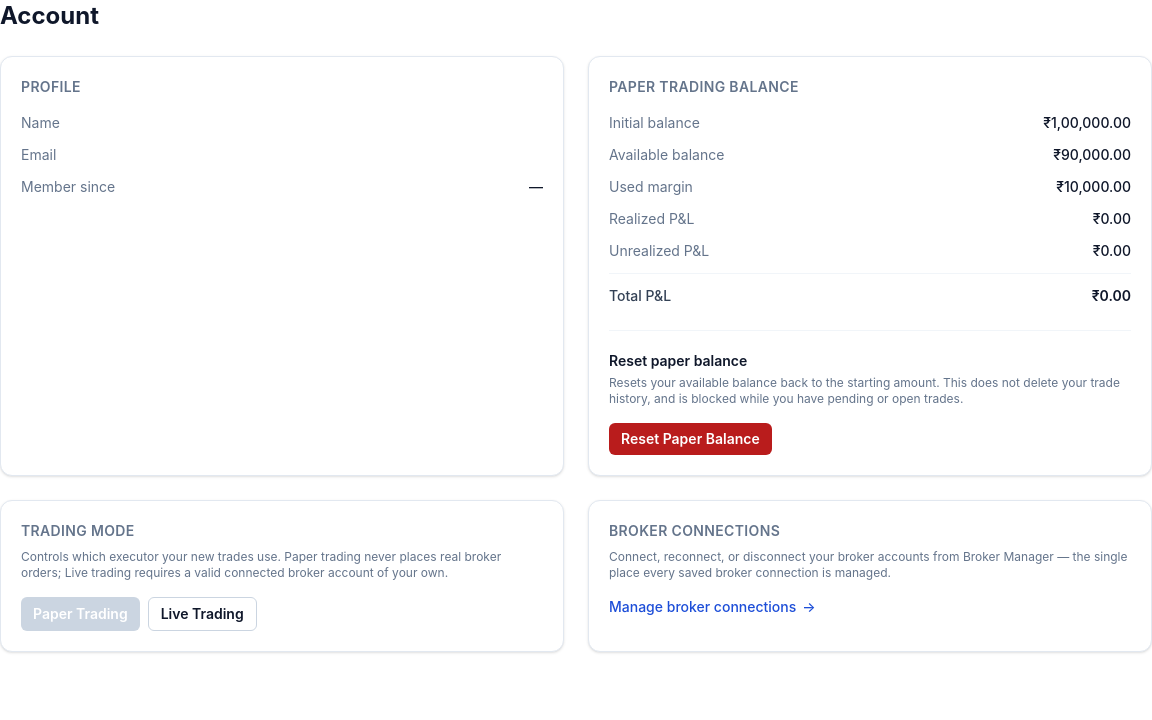
Test: Account page › Trading Mode selector › surfaces the backend safety rejection and leaves the mode unchanged (no silent fallback)
What coordinates should you click on to do the following:
click the button "Live Trading"
I would click on:
 (202, 614)
Its box is [148,597,257,631].
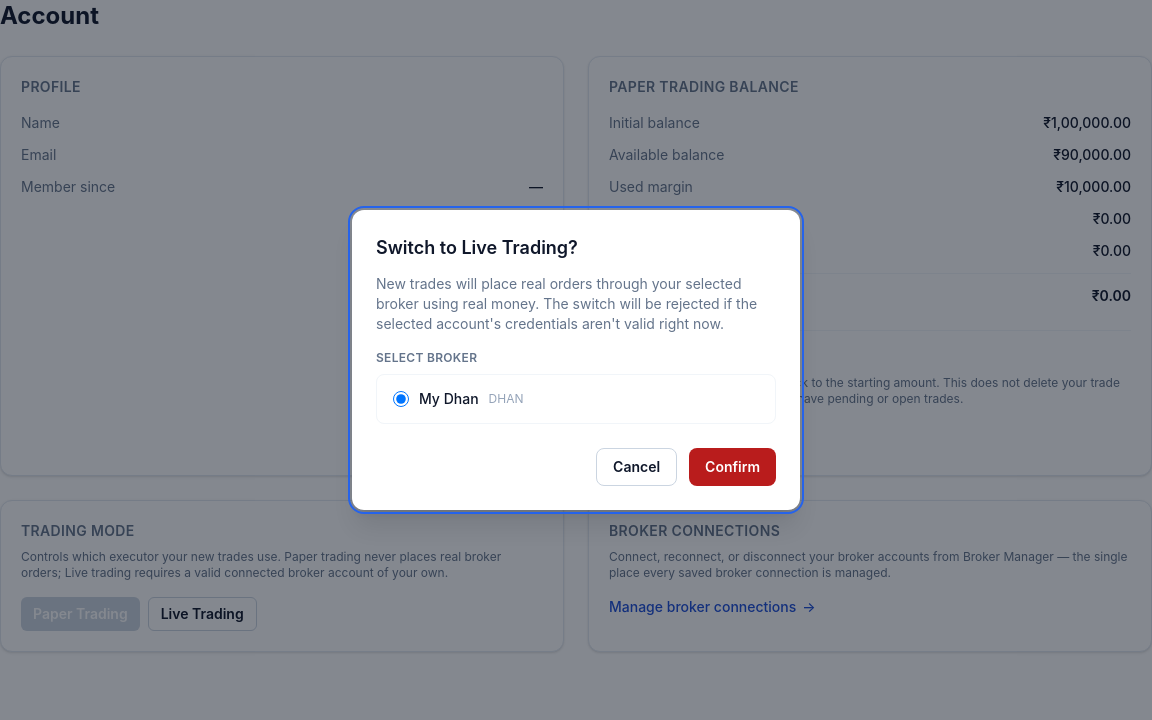
What coordinates should you click on to do the following:
click the button "Confirm"
I would click on:
 (733, 467)
Its box is [689,448,776,486].
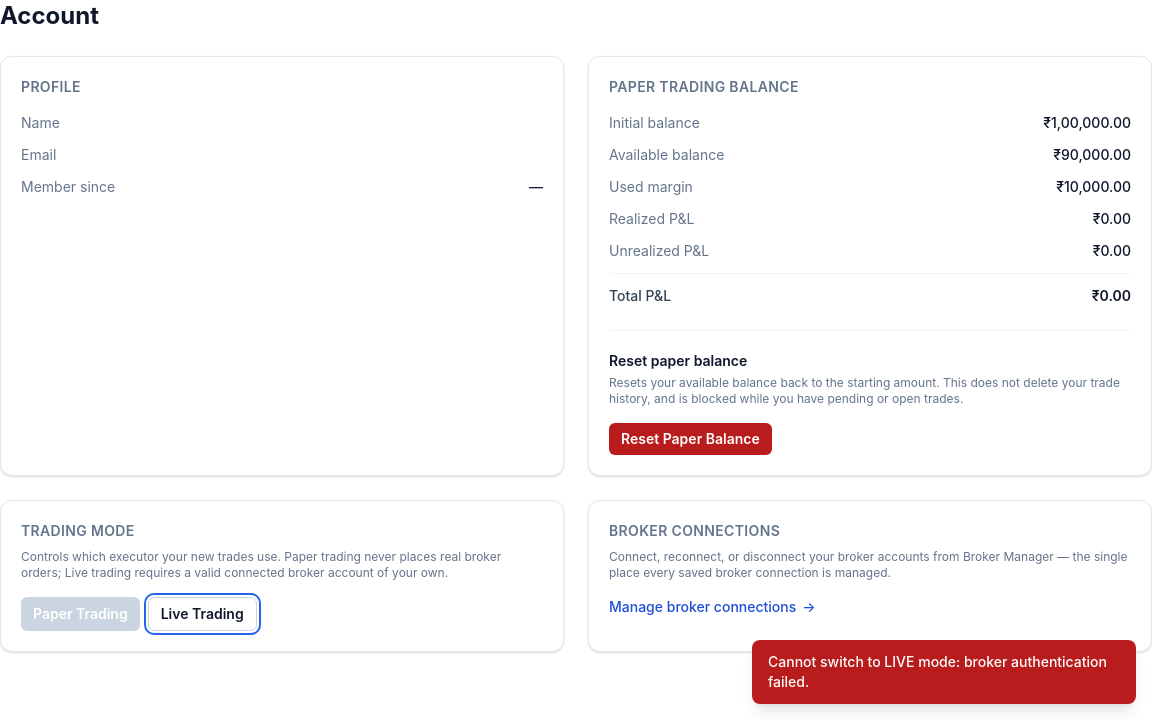
Expected: the button "Paper Trading" is disabled, [21,597,140,631]
Result: the text "Cannot switch to LIVE mode: broker authentication failed." is shown at [752,640,1136,704]
